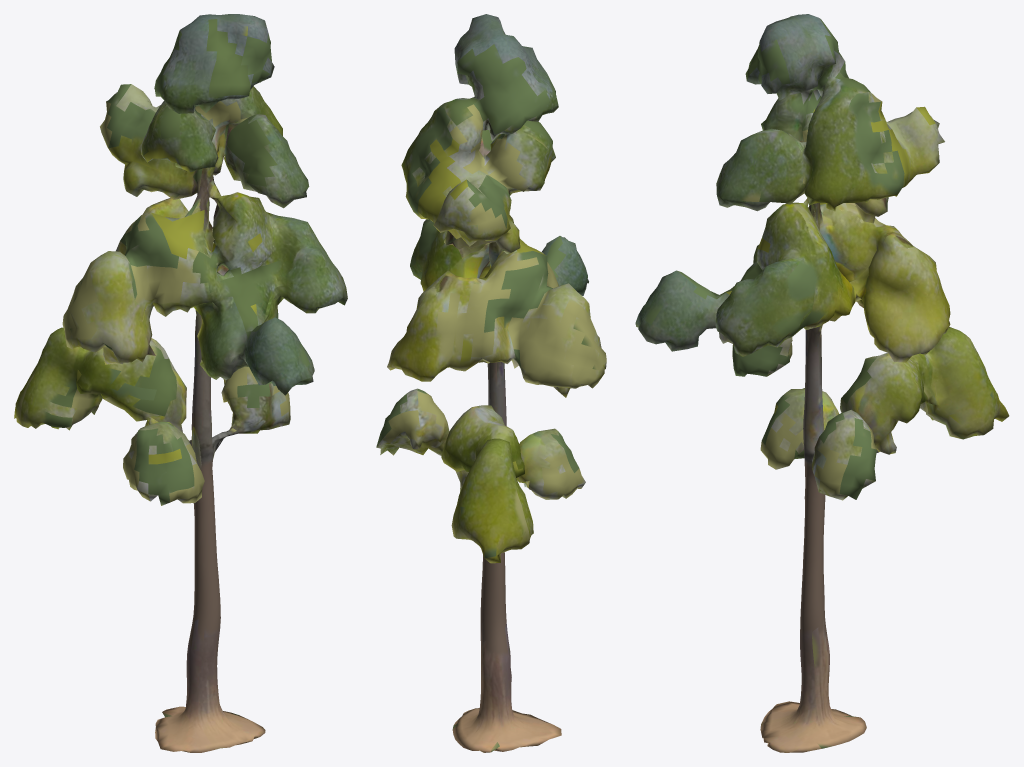
Rendered from tripo_convert_48e92183-9bf9-4fed-8b68-2b5741d634fe.obj.
The picture shows the model from 3 angles, left to right: view 1: azimuth 30°, elevation 25°; view 2: azimuth 150°, elevation 25°; view 3: azimuth 270°, elevation 25°; orthographic projection. The views are drawn at different scales.
Parts seen in each view (by area): view 1: tripo_node_48e92183-9bf9-4fed-8b68-2b5741d634fe; view 2: tripo_node_48e92183-9bf9-4fed-8b68-2b5741d634fe; view 3: tripo_node_48e92183-9bf9-4fed-8b68-2b5741d634fe.
Boxes of the visible parts, x1,y1,x2,y2 form: tripo_node_48e92183-9bf9-4fed-8b68-2b5741d634fe: (14, 14, 347, 752); tripo_node_48e92183-9bf9-4fed-8b68-2b5741d634fe: (376, 14, 606, 752); tripo_node_48e92183-9bf9-4fed-8b68-2b5741d634fe: (635, 14, 1009, 752).
Size of the model in its own units: 0.3096 by 0.9337 by 0.439.
Materials: 1 (1 with a texture image).
